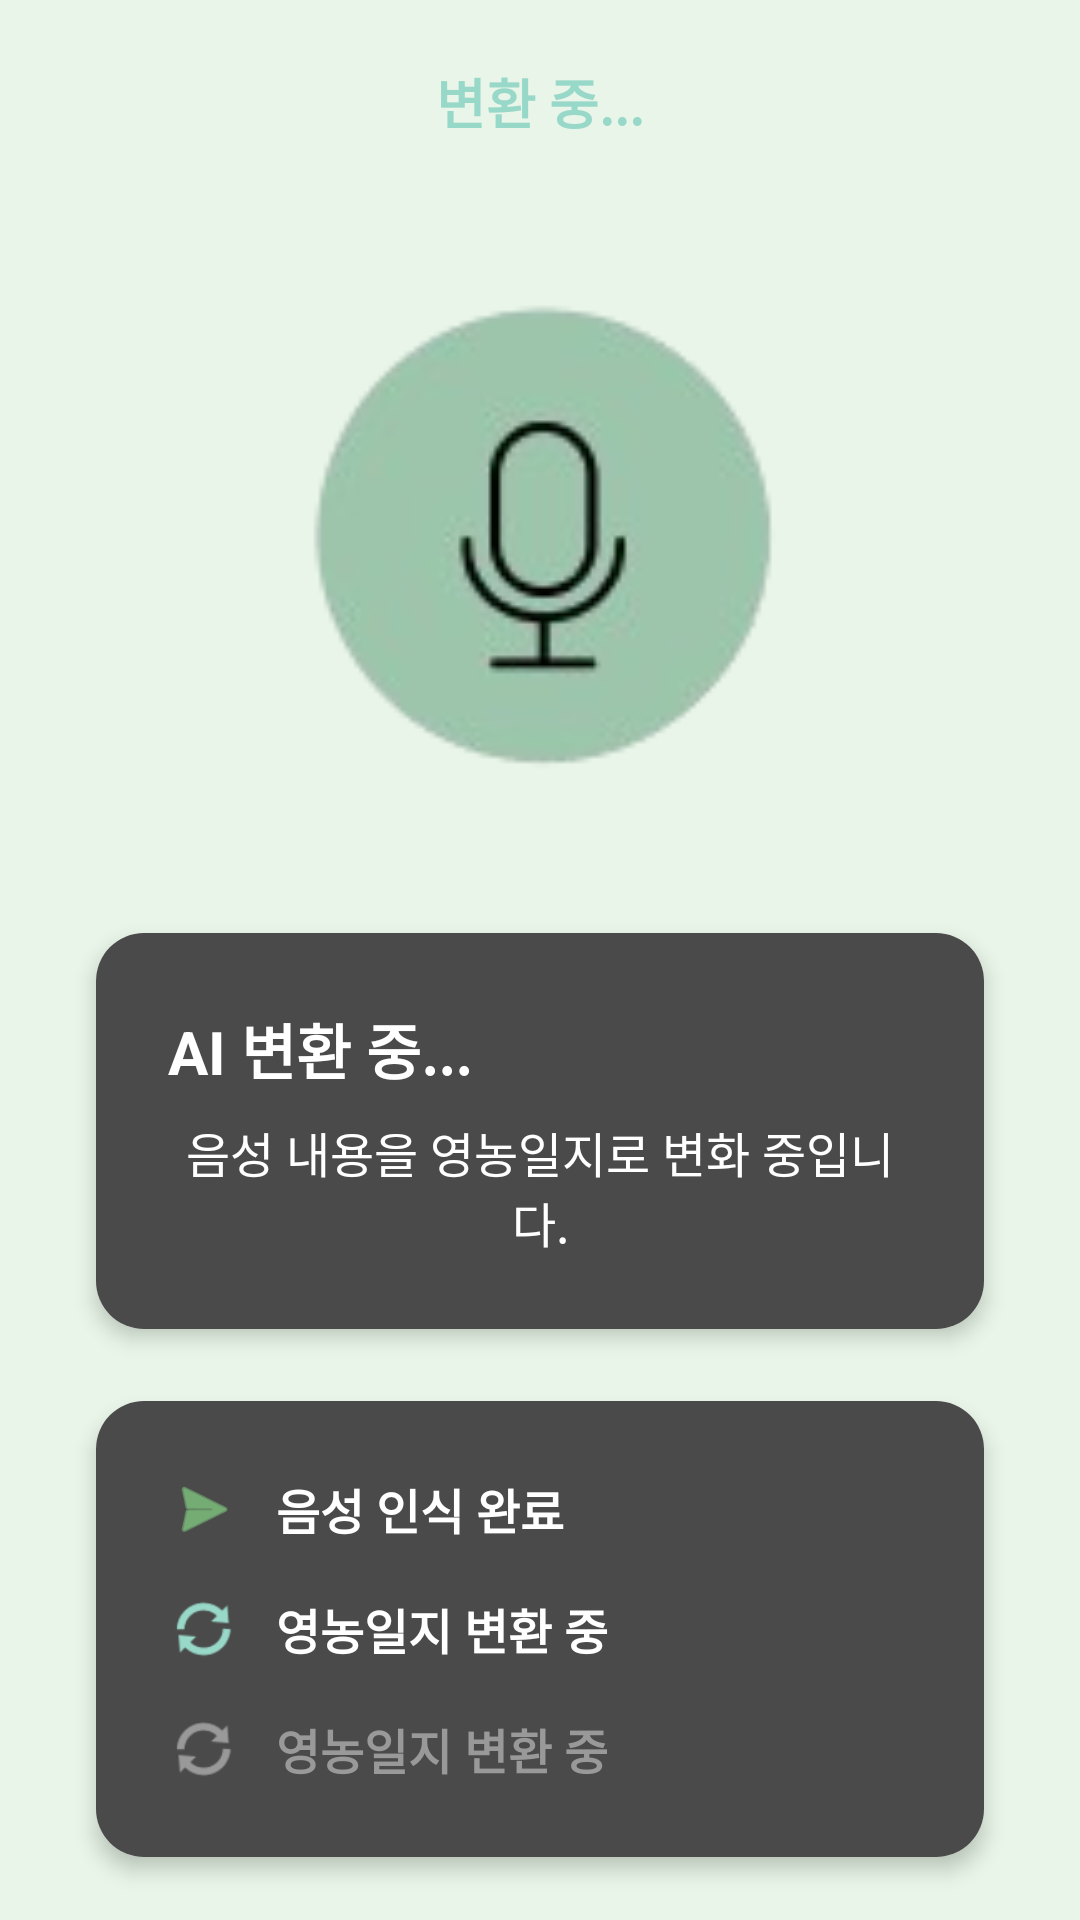

Where to tap for icons on this 1080w x 1920h app screen, as [x,y]:
popup sync: [204,1629], [204,1749]
send: [205,1509]
